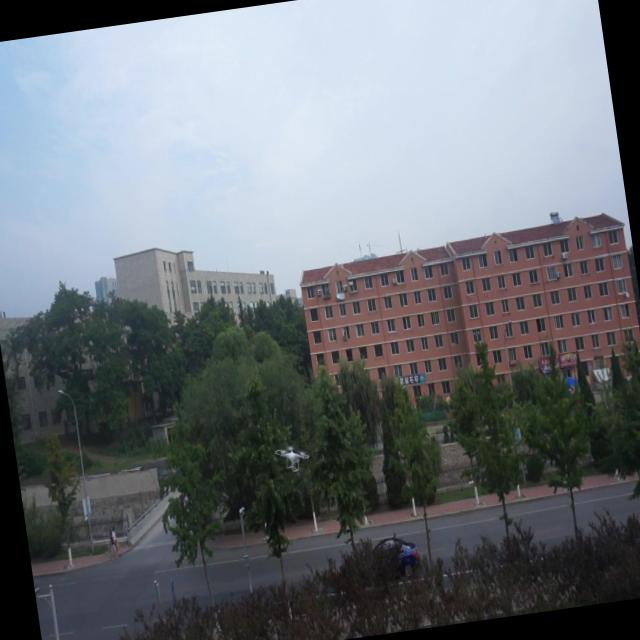drone: (272, 441, 310, 476)
